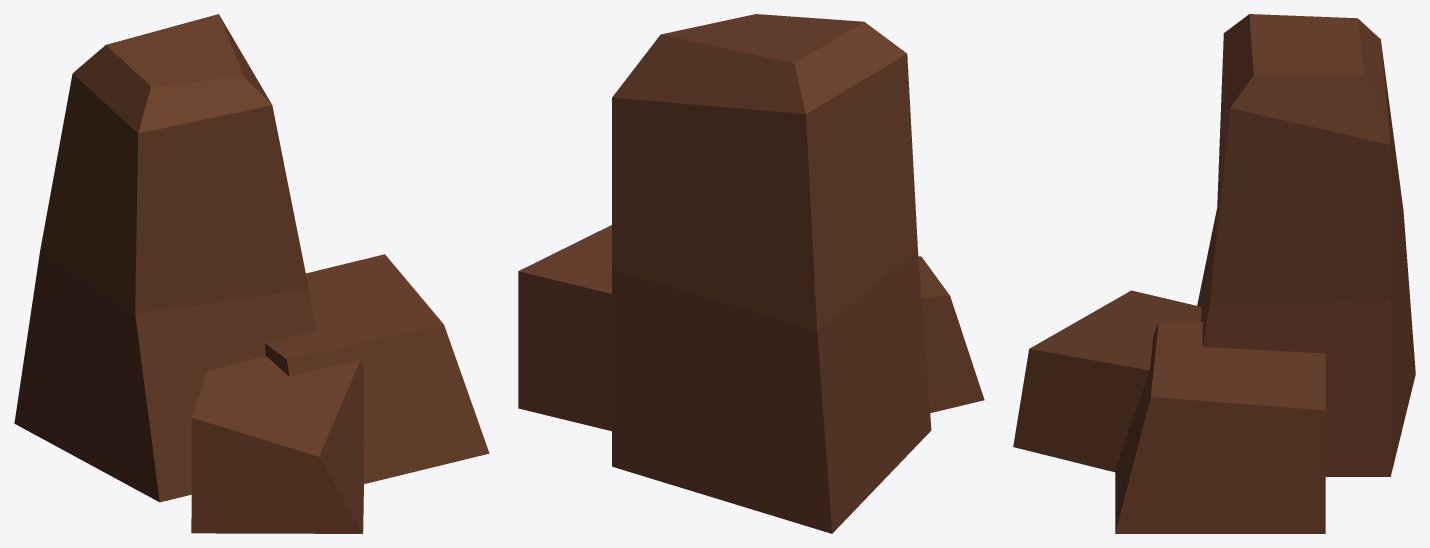
Rendered from Rock.020.fbx.
The picture shows the model from 3 angles, left to right: view 1: azimuth 30°, elevation 25°; view 2: azimuth 150°, elevation 25°; view 3: azimuth 270°, elevation 25°; orthographic projection. The views are drawn at different scales.
Parts seen in each view (by area): view 1: Rock.020; view 2: Rock.020; view 3: Rock.020.
Boxes of the visible parts, left/top/right/bottom form: Rock.020: left=14, top=14, right=489, bottom=533; Rock.020: left=518, top=14, right=984, bottom=533; Rock.020: left=1013, top=14, right=1415, bottom=533.
Size of the model in its own units: 3.15 by 3.55 by 3.35.
